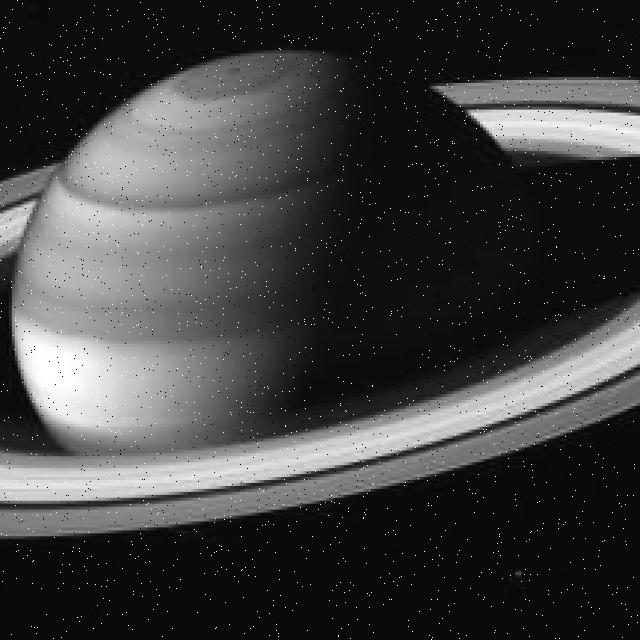Saturn: (0, 48, 640, 542)
